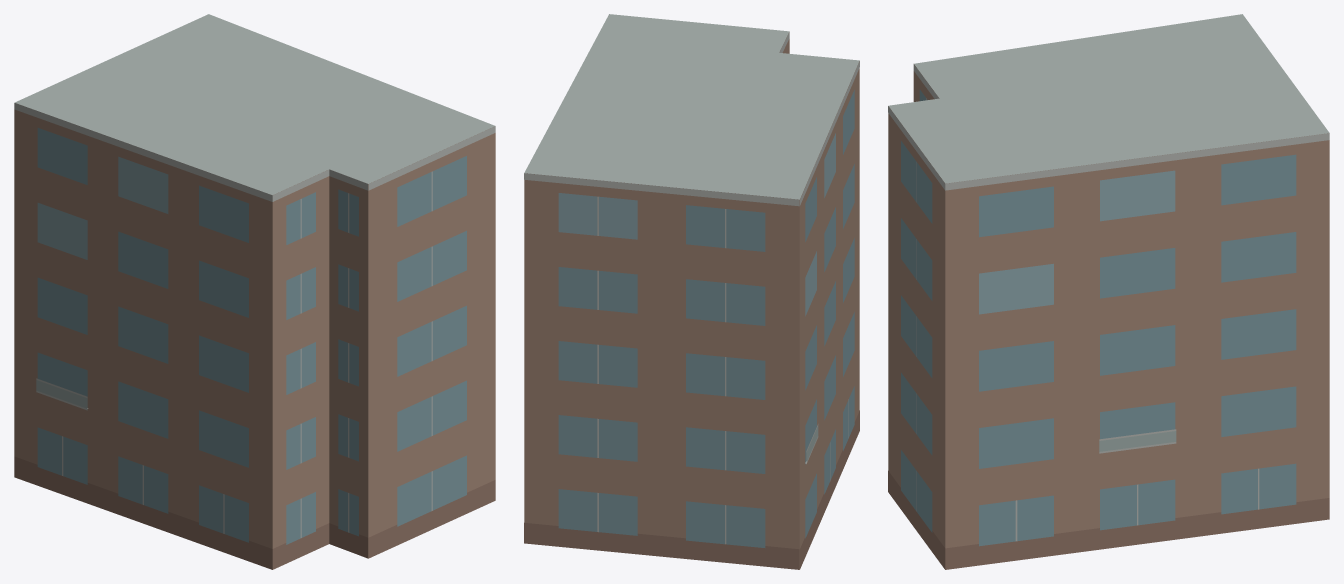
File: survey-upis-32986485.glb
3 views of the same model, side by side, from view 1: azimuth 30°, elevation 25°; view 2: azimuth 150°, elevation 25°; view 3: azimuth 270°, elevation 25° (orthographic). The views are drawn at different scales.
Parts seen in each view (by area): view 1: survey-upis-32986485.tmp; view 2: survey-upis-32986485.tmp; view 3: survey-upis-32986485.tmp.
Part boxes in pixels (x1,y1,x2,y2): survey-upis-32986485.tmp: (14, 14, 495, 569); survey-upis-32986485.tmp: (524, 14, 859, 569); survey-upis-32986485.tmp: (888, 14, 1329, 569).
Bounding box in the file's own units: 12.72 × 13.5 × 14.
